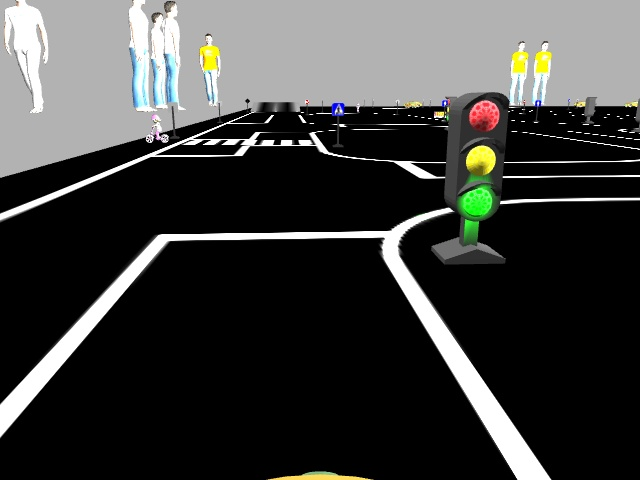Crosswalk: (331, 102, 343, 116)
Pedestrian: (145, 114, 168, 144)
TrafficLight: (442, 93, 509, 220)
